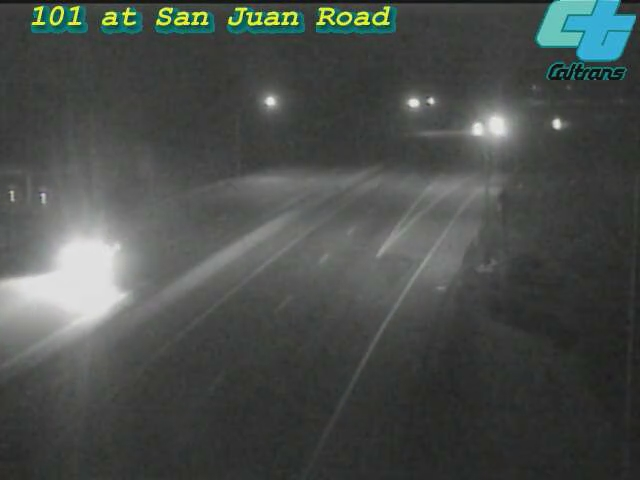vehicle: (38, 219, 118, 299), (532, 100, 582, 150), (452, 104, 502, 154), (471, 101, 521, 151)
